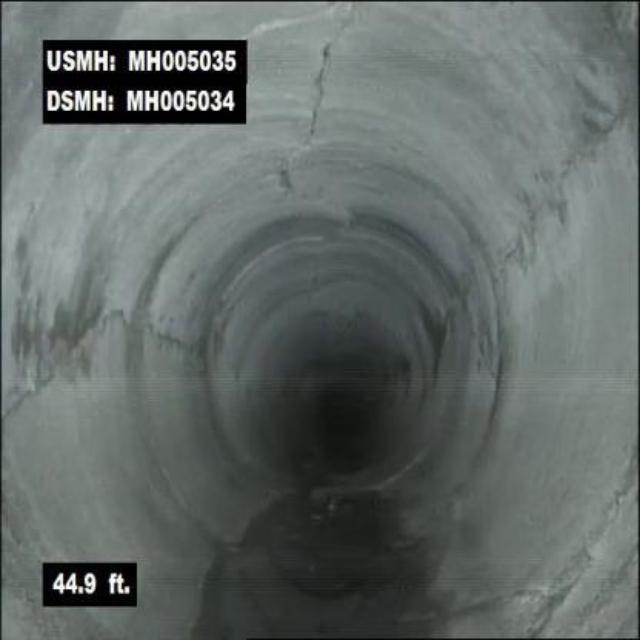Crack: (531, 452, 638, 632), (0, 303, 134, 420), (563, 88, 632, 205), (297, 9, 352, 131)
